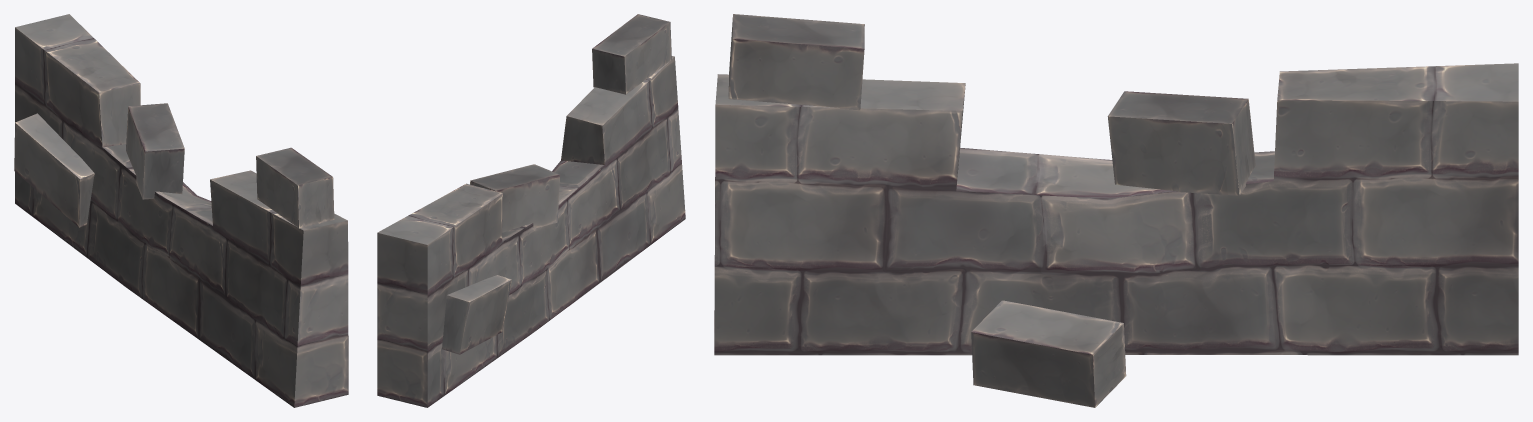
The model's file is SM_PROP_wall_stone_small_04.fbx.
3 views of the same model, side by side, from view 1: azimuth 30°, elevation 25°; view 2: azimuth 150°, elevation 25°; view 3: azimuth 270°, elevation 25° (orthographic). The views are drawn at different scales.
Visible parts, largest first — view 1: SM_PROP_wall_stone_small_04; view 2: SM_PROP_wall_stone_small_04; view 3: SM_PROP_wall_stone_small_04.
Boxes of the visible parts, box(x1,y1,x2,y2) form: SM_PROP_wall_stone_small_04: box(14, 14, 348, 407); SM_PROP_wall_stone_small_04: box(377, 14, 685, 407); SM_PROP_wall_stone_small_04: box(714, 14, 1518, 407).
Size of the model in its own units: 92.48 by 127 by 297.
